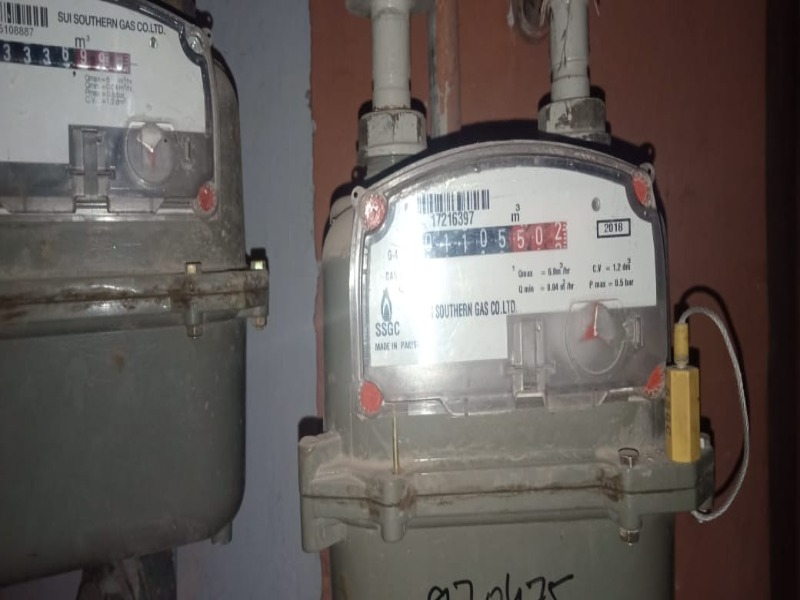ssgc: (419, 224, 571, 258), (1, 39, 134, 74)
